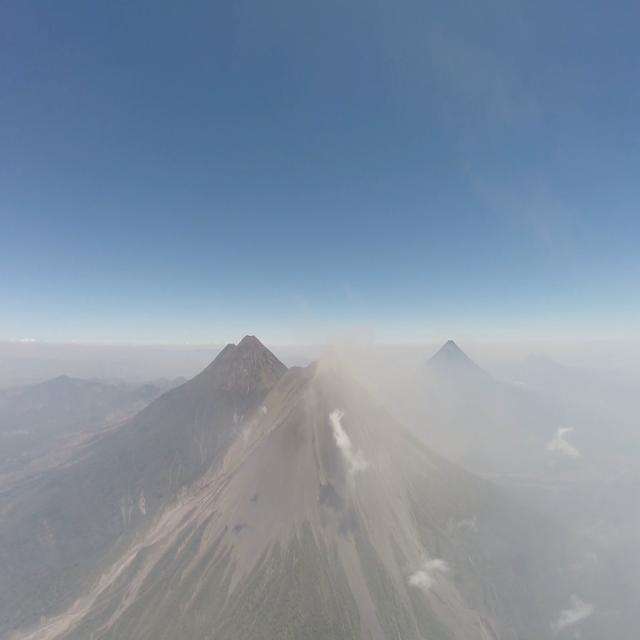Plume: (313, 324, 397, 434)
